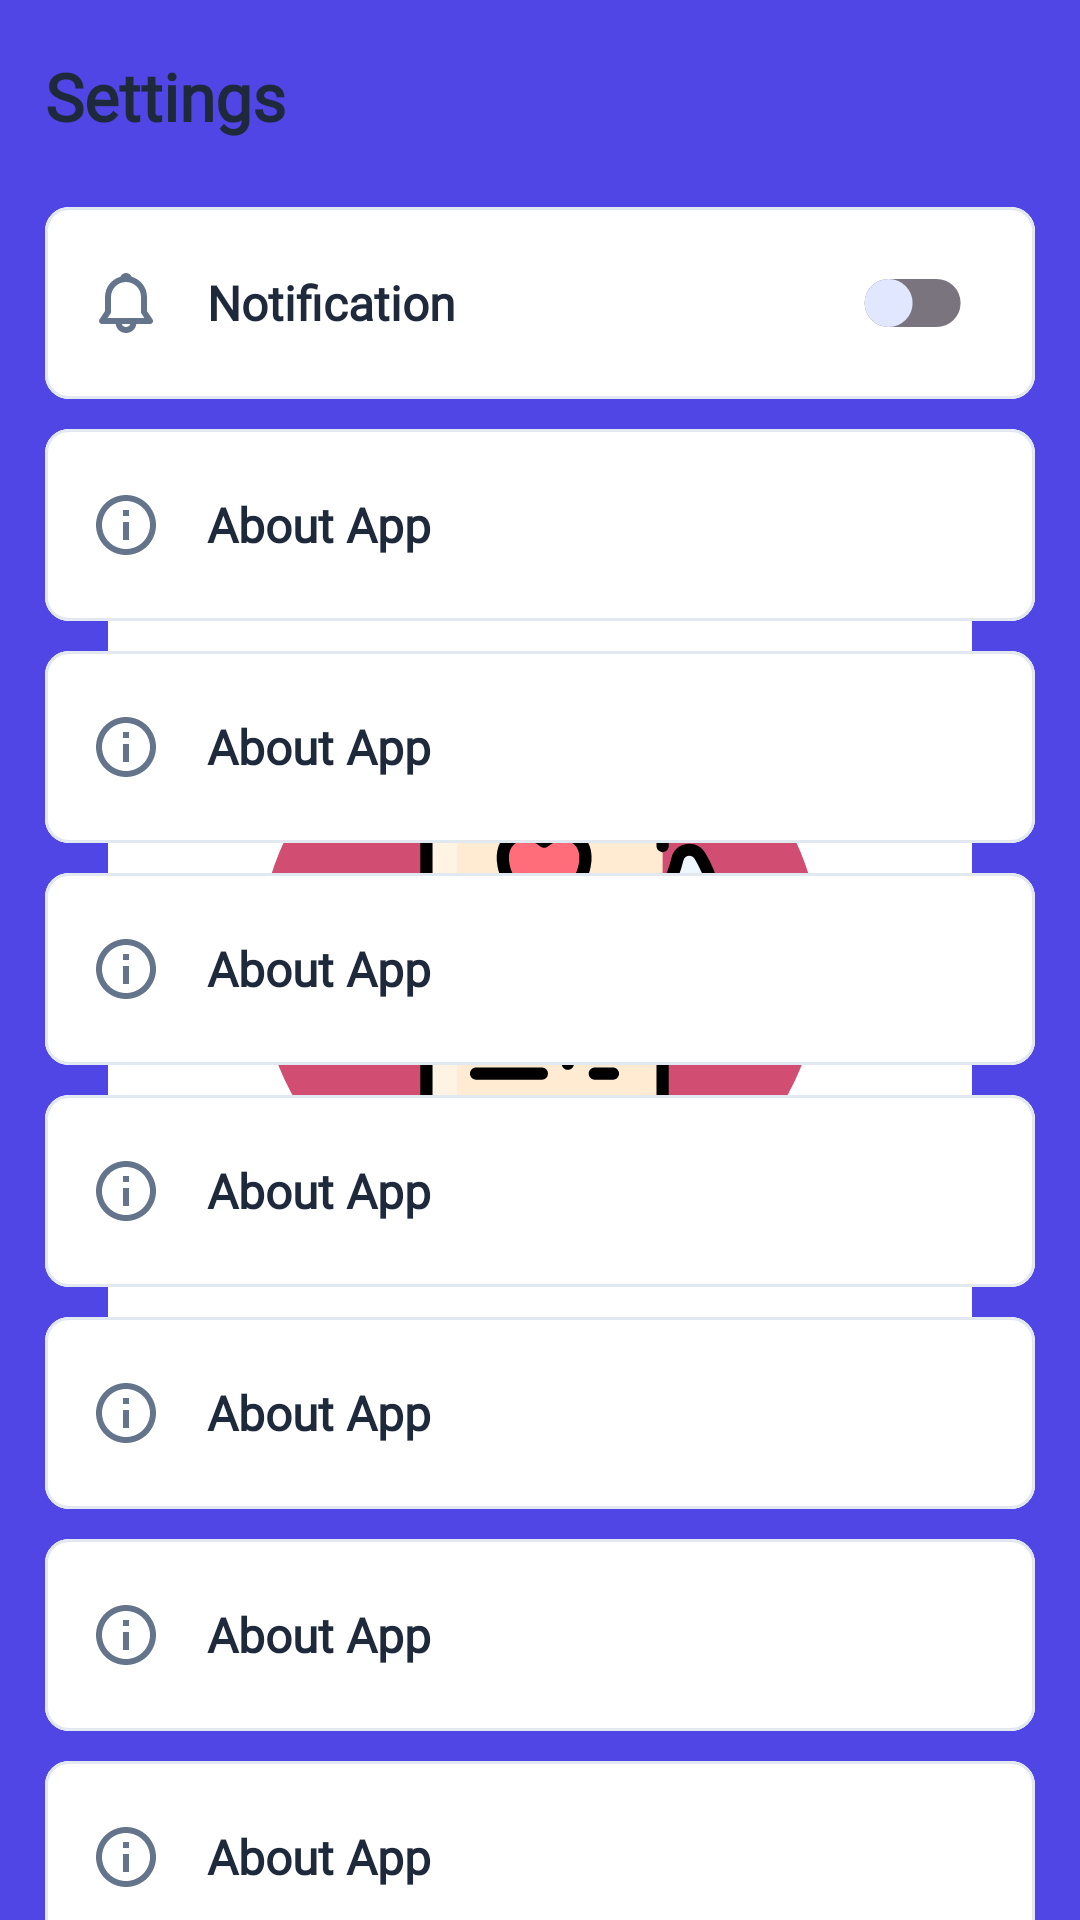

Where to tap for icons on this 1080×1920 app screen, as point (x, y):
info: point (126, 525), point (126, 747), point (126, 969), point (126, 1191), point (126, 1413), point (126, 1635), point (126, 1857)
